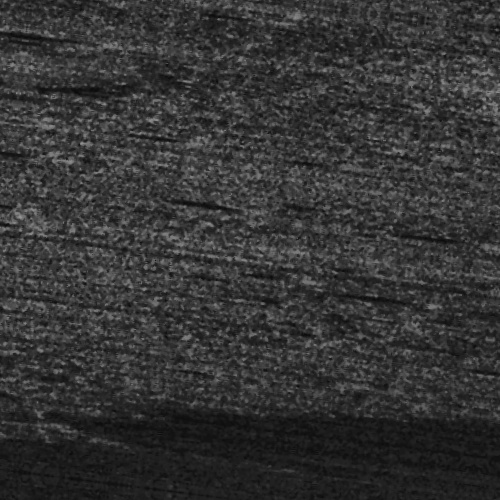object: (30, 59, 123, 68), (1, 178, 54, 185), (218, 205, 271, 210), (1, 375, 54, 380), (457, 209, 500, 214), (419, 276, 460, 281)
shadow: (2, 59, 76, 68), (355, 276, 440, 281), (162, 205, 244, 210), (410, 209, 489, 214), (0, 178, 27, 185), (0, 375, 27, 380)
